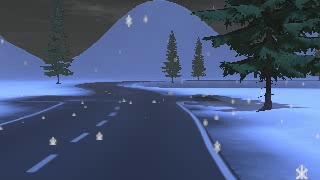Lane: (0, 82, 247, 179)
